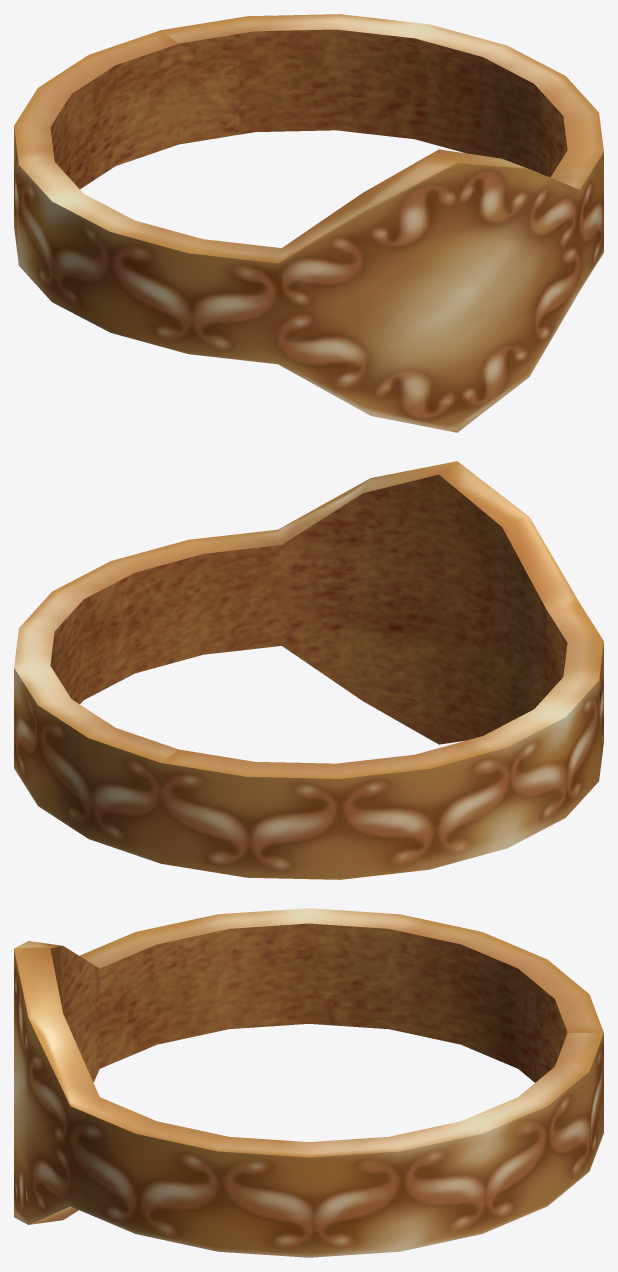
File: ring_copper_16.fbx
The picture shows the model from 3 angles, top to bottom: view 1: azimuth 30°, elevation 25°; view 2: azimuth 150°, elevation 25°; view 3: azimuth 270°, elevation 25°; orthographic projection.
Visible parts, largest first — view 1: ring_copper_16; view 2: ring_copper_16; view 3: ring_copper_16.
Part boxes in pixels (x1,y1,x2,y2): ring_copper_16: [14, 14, 603, 432]; ring_copper_16: [14, 461, 603, 879]; ring_copper_16: [14, 908, 603, 1257].
Bounding box in the file's own units: 2.04 × 1.03 × 2.04.
